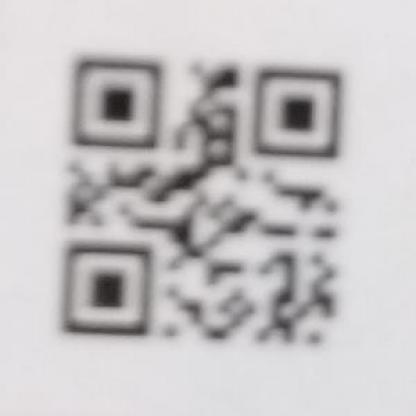qr: (55, 45, 348, 356)
